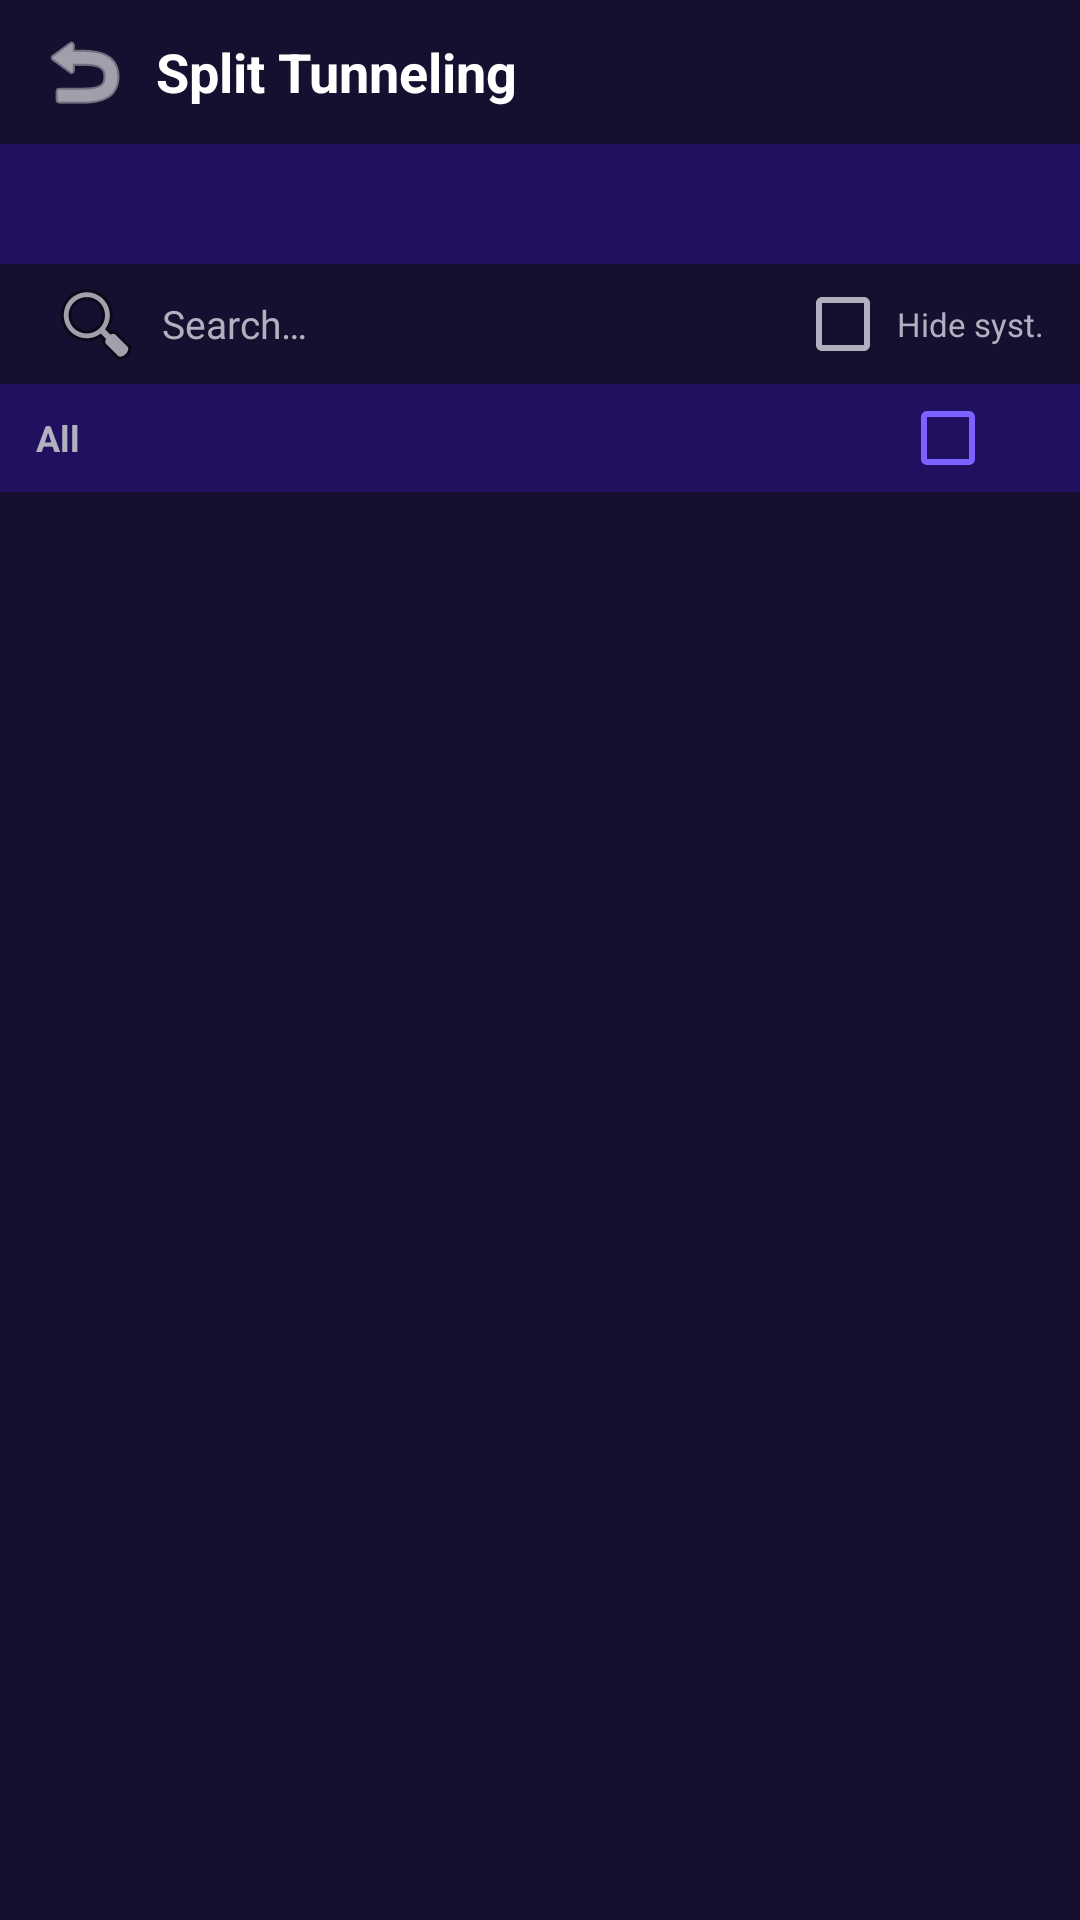

Named icons in this screenshot (1080x1920) and their centers, [x,y]:
Back: [85,72]
